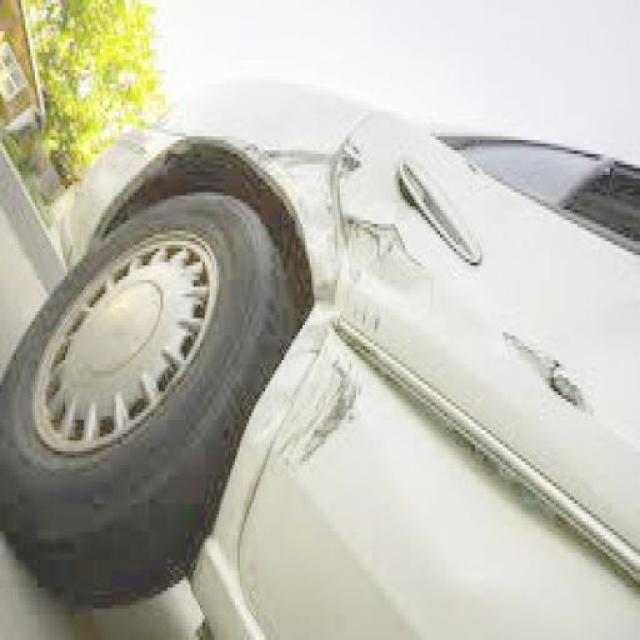car damage: (228, 119, 599, 495)
